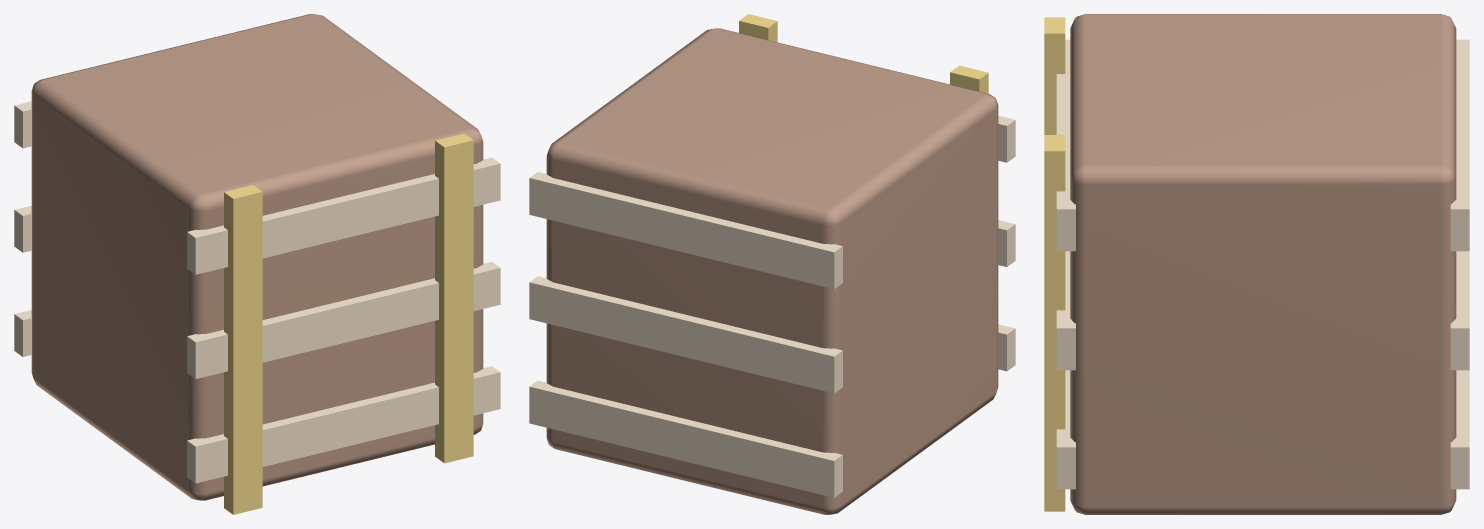
File: crate.glb
3 renders of one model, left to right at view 1: azimuth 30°, elevation 25°; view 2: azimuth 150°, elevation 25°; view 3: azimuth 270°, elevation 25°, orthographic. The views are drawn at different scales.
Visible parts, largest first — view 1: Crate_wood, Crate_plaster, Crate_yellow; view 2: Crate_wood, Crate_plaster, Crate_yellow; view 3: Crate_wood, Crate_plaster, Crate_yellow.
Part boxes in pixels (box(x1,y1,x2,y2)): Crate_wood: box(31, 14, 483, 500); Crate_plaster: box(14, 101, 500, 483); Crate_yellow: box(224, 133, 473, 514); Crate_wood: box(546, 28, 998, 514); Crate_plaster: box(529, 115, 1015, 497); Crate_yellow: box(739, 14, 988, 93); Crate_wood: box(1070, 14, 1456, 514); Crate_plaster: box(1056, 39, 1469, 489); Crate_yellow: box(1044, 17, 1065, 511).
Size of the model in its own units: 1.04 by 1.03 by 1.1.
